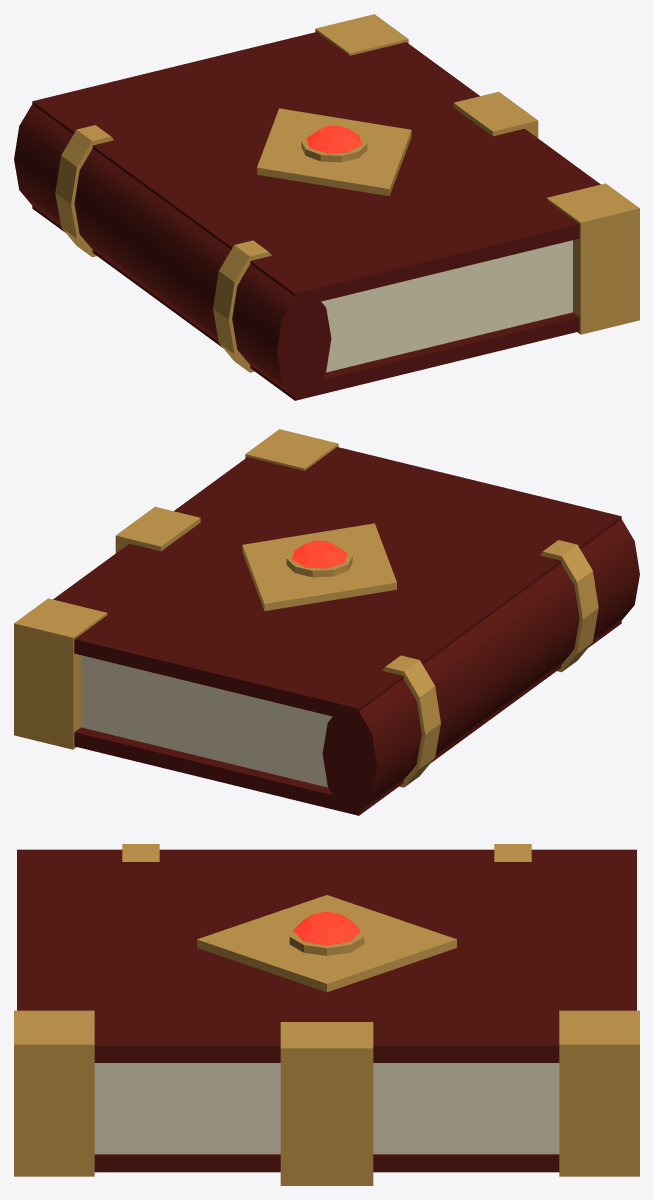
File: tome_fire.glb
The picture shows the model from 3 angles, top to bottom: view 1: azimuth 30°, elevation 25°; view 2: azimuth 150°, elevation 25°; view 3: azimuth 270°, elevation 25°; orthographic projection. The views are drawn at different scales.
Visible parts, largest first — view 1: Tome_Fire_Tome_fire, Tome_Fire_Brass, Tome_Fire_Paper, Tome_Fire_Gem_fire; view 2: Tome_Fire_Tome_fire, Tome_Fire_Brass, Tome_Fire_Paper, Tome_Fire_Gem_fire; view 3: Tome_Fire_Tome_fire, Tome_Fire_Brass, Tome_Fire_Paper, Tome_Fire_Gem_fire.
Part boxes in pixels (<box>): Tome_Fire_Tome_fire: <box>14,32,600,400</box>; Tome_Fire_Brass: <box>55,14,639,372</box>; Tome_Fire_Paper: <box>321,240,572,372</box>; Tome_Fire_Gem_fire: <box>306,125,361,153</box>; Tome_Fire_Tome_fire: <box>53,447,639,815</box>; Tome_Fire_Brass: <box>14,429,598,787</box>; Tome_Fire_Paper: <box>81,655,332,787</box>; Tome_Fire_Gem_fire: <box>292,540,347,568</box>; Tome_Fire_Tome_fire: <box>17,849,636,1172</box>; Tome_Fire_Brass: <box>14,844,639,1185</box>; Tome_Fire_Paper: <box>94,1063,559,1154</box>; Tome_Fire_Gem_fire: <box>293,911,360,945</box>.
Size of the model in its own units: 0.1655 by 0.0571 by 0.202.
